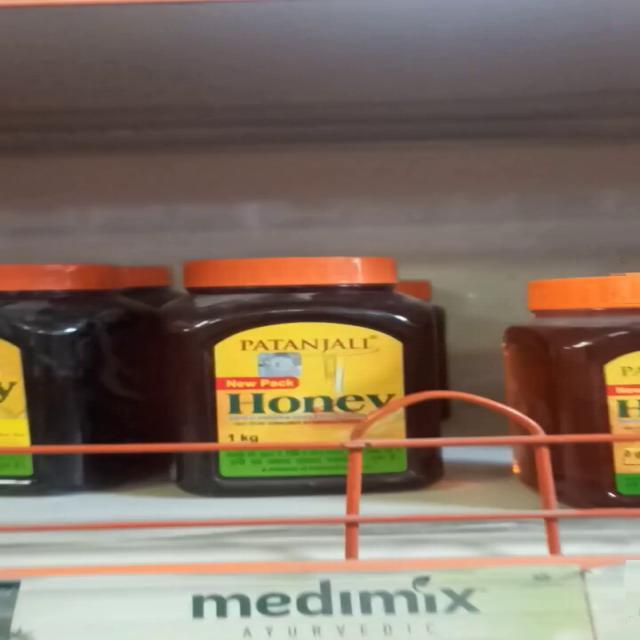Patanjali Honey: (166, 258, 433, 480)
